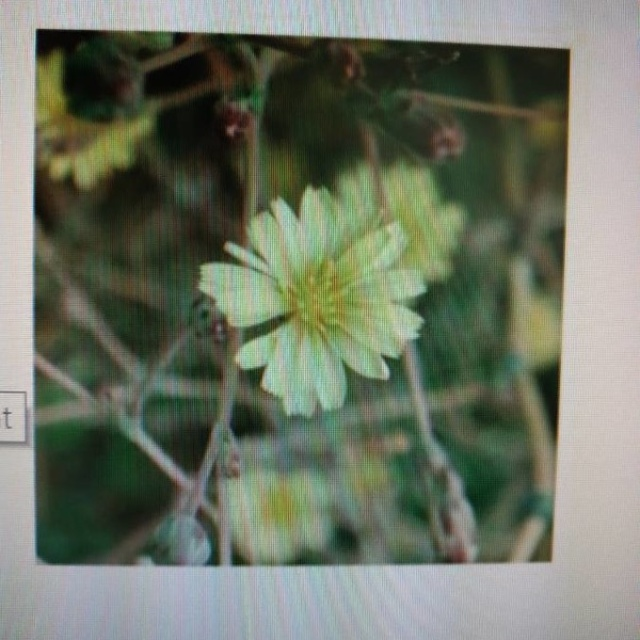obstacle: (183, 174, 494, 479)
